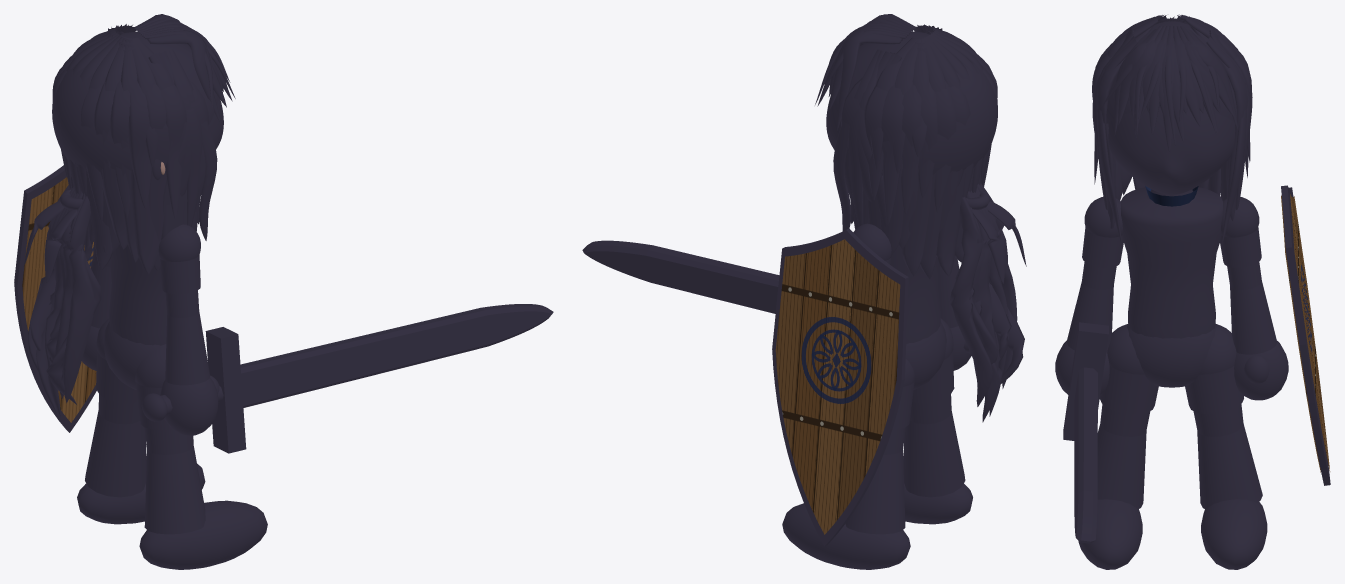
The model's file is oren.glb.
3 renders of one model, left to right at view 1: azimuth 30°, elevation 25°; view 2: azimuth 150°, elevation 25°; view 3: azimuth 270°, elevation 25°, orthographic.
Parts seen in each view (by area): view 1: ct_70_104, ct_95_121, ct_500_6, ct_95_120, ct_140_1, ct_95_126, ct_70_105, ct_170_93, escudoBase, ct_95_101, ct_70_115, ct_95_102 (+31 smaller); view 2: escudoBase, ct_70_104, ct_70_115, ct_500_6, ct_95_127, ct_95_120, ct_170_85, ct_95_126, ct_140_1, ct_95_121, ct_170_59, ct_95_0 (+36 smaller); view 3: ct_140_1, ct_500_3, ct_70_104, ct_95_126, ct_95_127, ct_95_0, ct_95_120, ct_95_121, ct_70_115, ct_95_112, escudoBase, ct_70_105 (+42 smaller).
Part boxes in pixels (<box>): ct_70_104: <box>240,304,553,407</box>; ct_95_121: <box>139,500,267,569</box>; ct_500_6: <box>52,31,218,171</box>; ct_95_120: <box>144,446,205,534</box>; ct_140_1: <box>109,244,166,345</box>; ct_95_126: <box>85,410,146,497</box>; ct_70_105: <box>205,327,246,453</box>; ct_170_93: <box>62,196,94,403</box>; escudoBase: <box>22,177,96,422</box>; ct_95_101: <box>165,312,209,385</box>; ct_70_115: <box>14,165,96,432</box>; ct_95_102: <box>160,377,218,435</box>; escudoBase: <box>775,239,900,534</box>; ct_70_104: <box>582,240,779,313</box>; ct_70_115: <box>772,228,908,546</box>; ct_500_6: <box>831,31,997,174</box>; ct_95_127: <box>782,503,910,569</box>; ct_95_120: <box>903,411,965,497</box>; ct_170_85: <box>949,197,992,406</box>; ct_95_126: <box>845,450,905,534</box>; ct_140_1: <box>890,245,940,343</box>; ct_95_121: <box>903,456,972,524</box>; ct_170_59: <box>881,42,923,225</box>; ct_95_0: <box>905,321,946,389</box>; ct_140_1: <box>1120,187,1222,338</box>; ct_500_3: <box>1108,108,1235,194</box>; ct_70_104: <box>1074,367,1097,543</box>; ct_95_126: <box>1197,424,1262,509</box>; ct_95_127: <box>1201,499,1267,569</box>; ct_95_0: <box>1127,325,1216,387</box>; ct_95_120: <box>1097,424,1146,509</box>; ct_95_121: <box>1078,499,1142,569</box>; ct_70_115: <box>1281,185,1330,485</box>; ct_95_112: <box>1230,282,1277,354</box>; escudoBase: <box>1281,194,1330,472</box>; ct_70_105: <box>1063,322,1108,440</box>.
Size of the model in its own units: 1.35 by 1.41 by 0.6814.
Materials: 18 (6 with a texture image).
